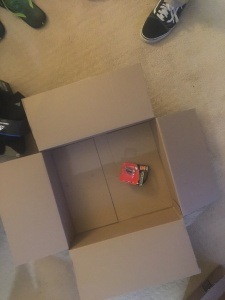innerbox: (49, 123, 173, 239)
outerbox: (3, 67, 209, 285)
product: (121, 160, 147, 185)
